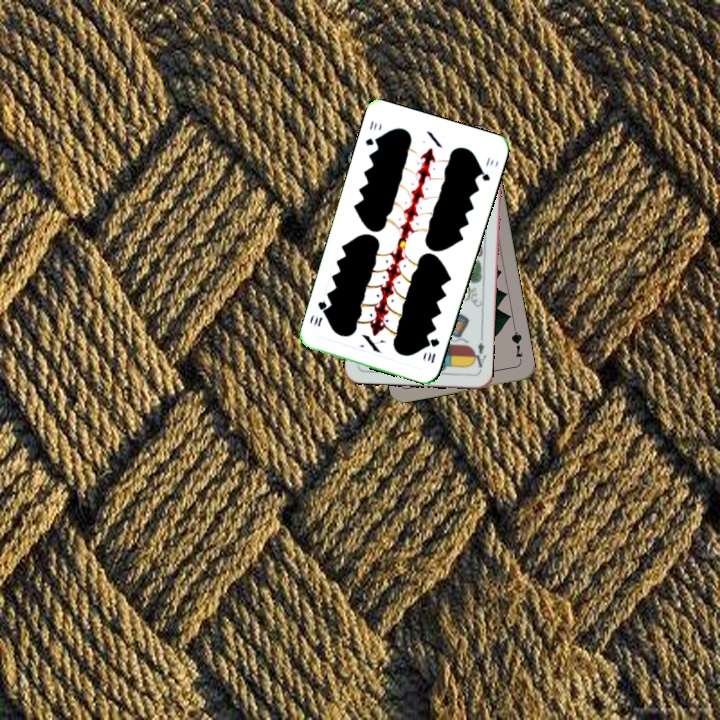EA: (468, 332, 489, 373)
G10: (361, 116, 382, 148), (424, 334, 442, 366)
G7: (507, 325, 525, 365)
